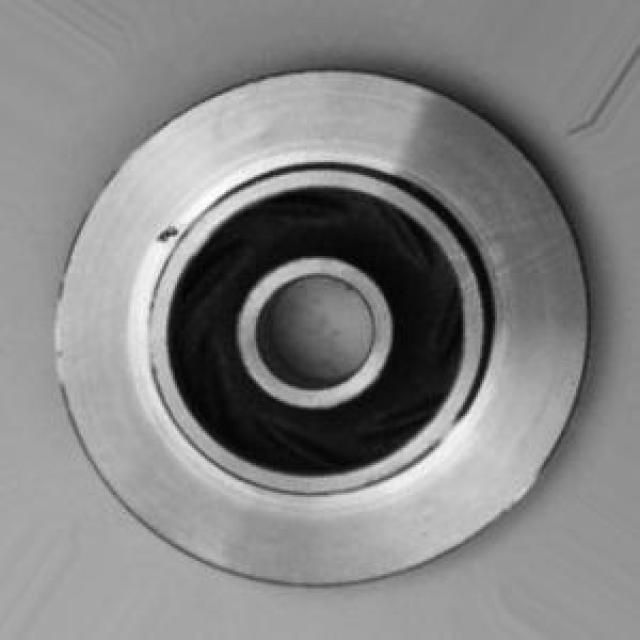Defect: (148, 208, 196, 257)
